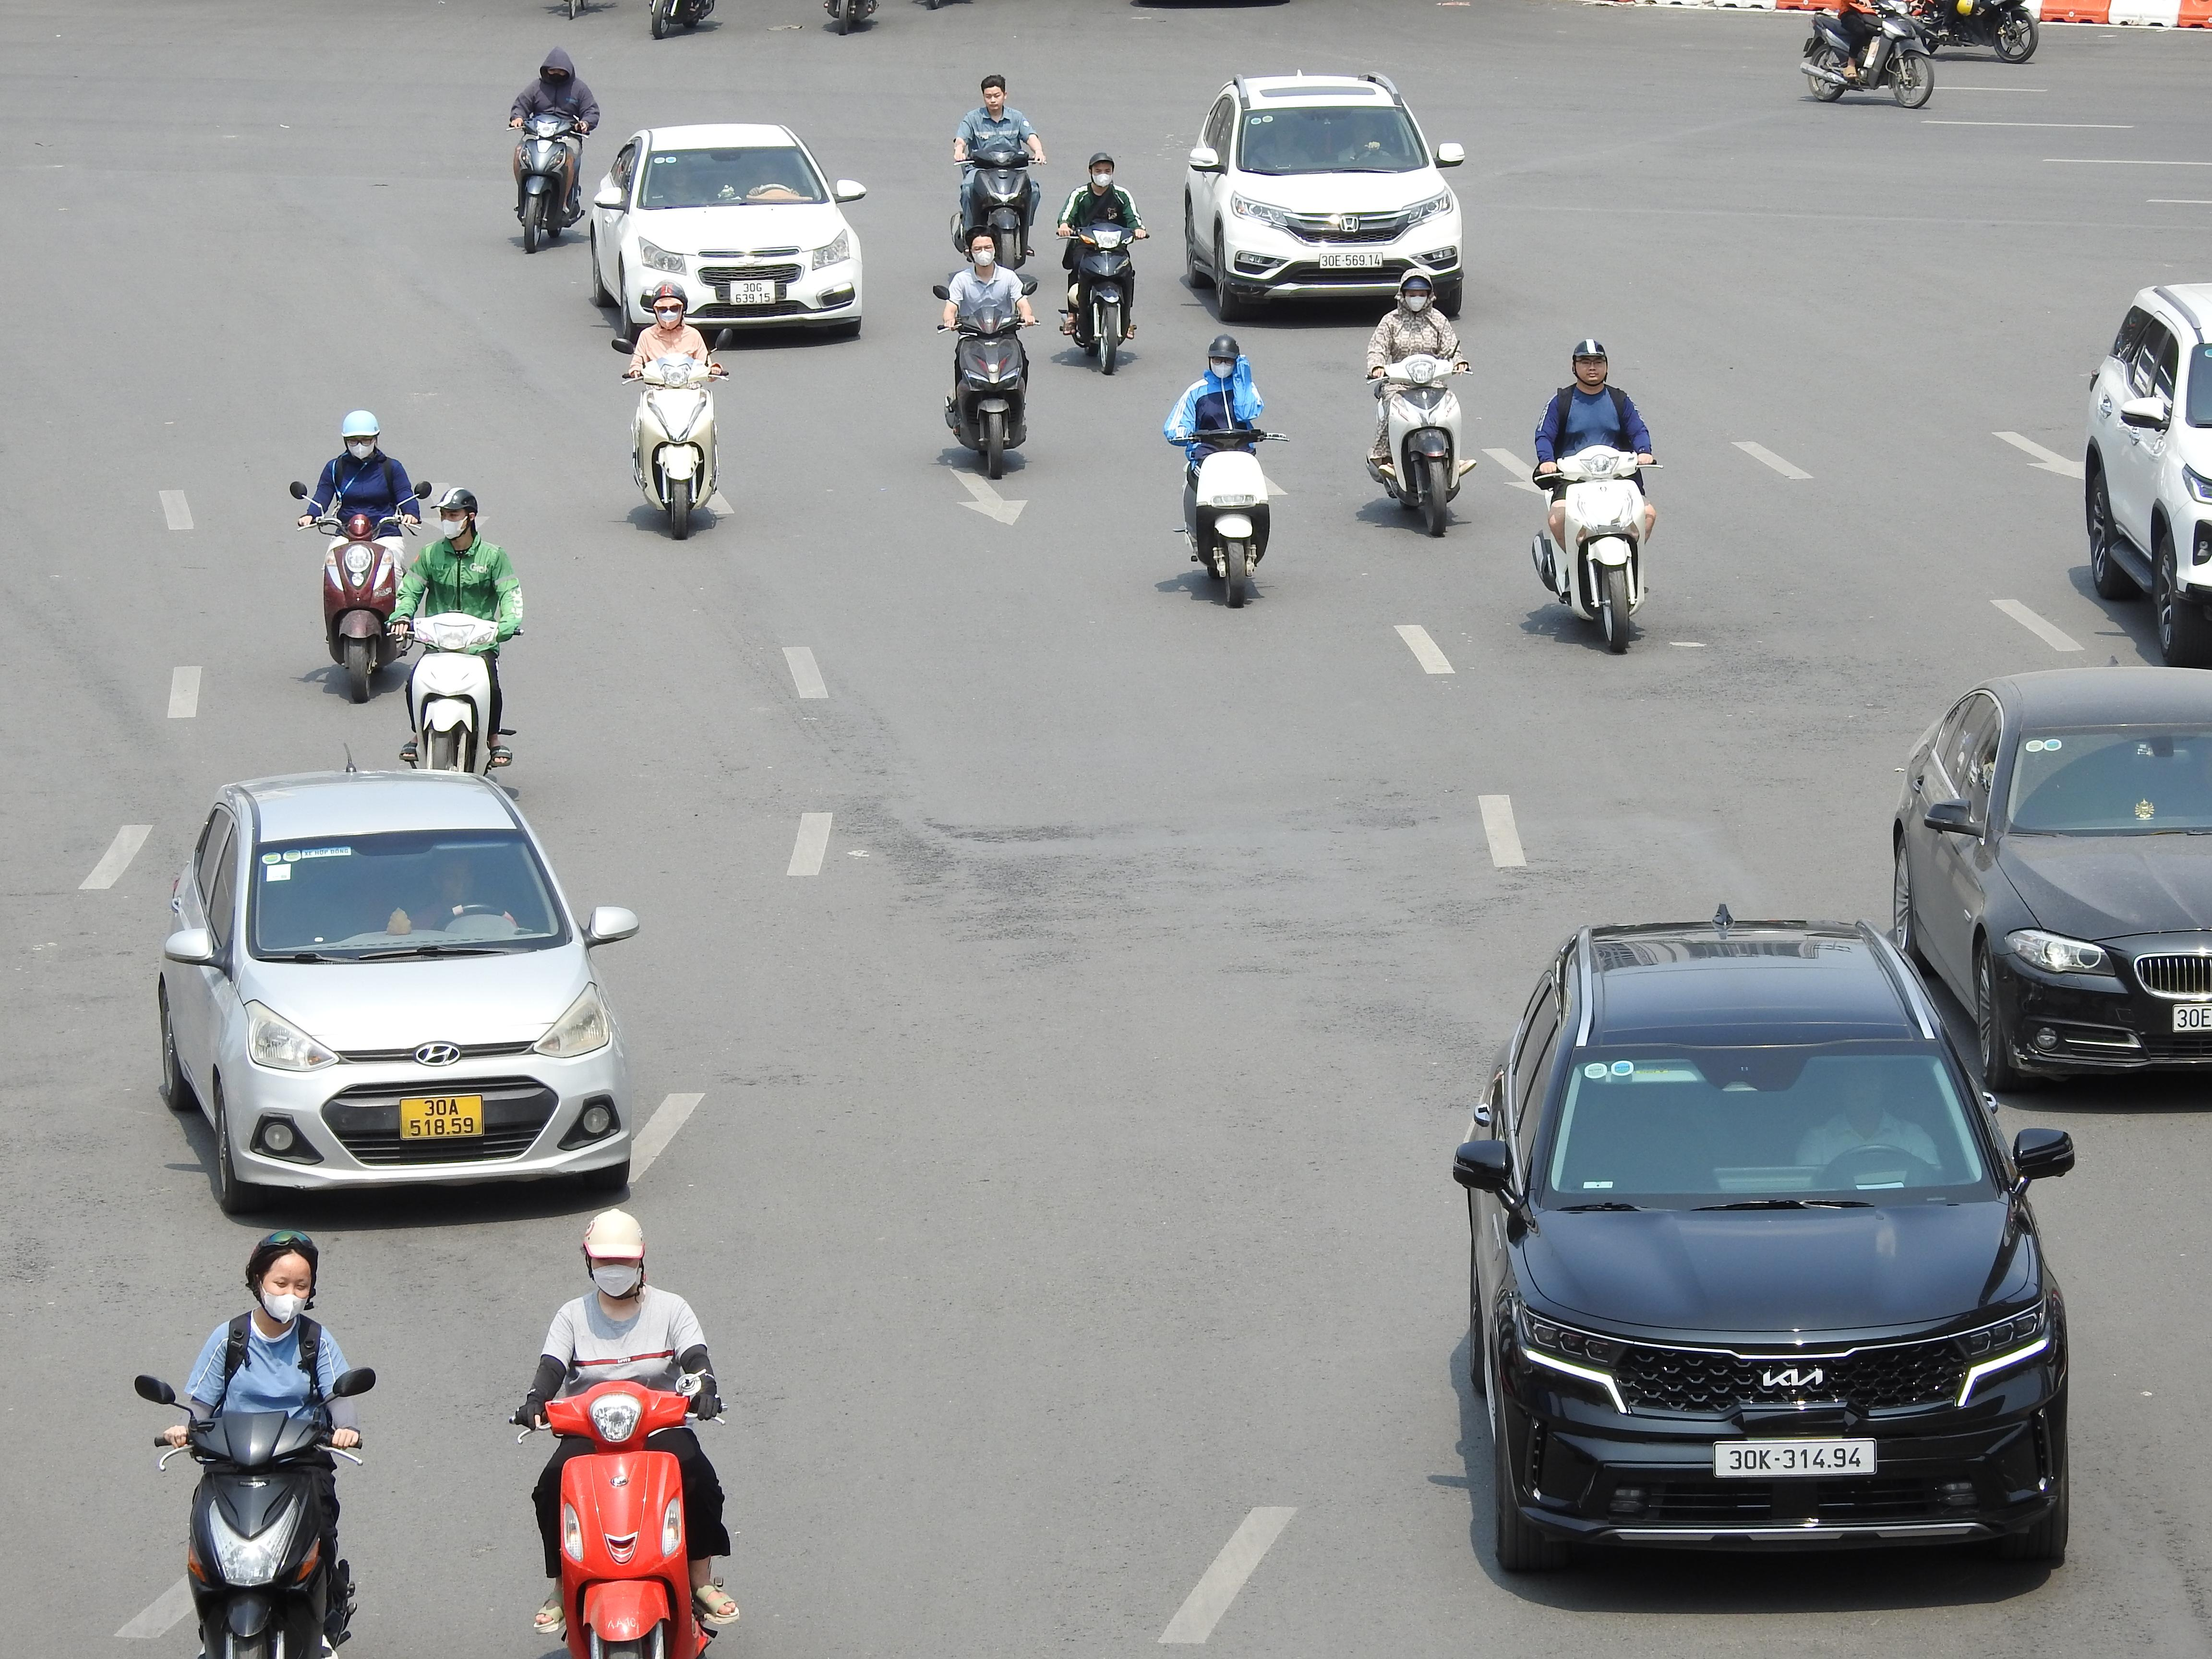BSD: (1712, 1438, 1876, 1478), (2174, 1000, 2212, 1030), (1318, 251, 1381, 268)
BSV: (399, 1094, 484, 1140), (730, 281, 777, 305)
car: (1446, 911, 2080, 1575), (153, 765, 641, 1215), (1888, 662, 2212, 1089), (1181, 71, 1467, 322), (587, 122, 866, 345), (2080, 279, 2212, 653)
motorbike: (138, 1229, 376, 1659), (514, 1208, 737, 1659), (1531, 338, 1658, 657), (296, 408, 423, 704), (395, 486, 521, 777), (1169, 333, 1280, 610), (1366, 270, 1474, 538), (624, 281, 726, 538), (935, 228, 1036, 481), (1057, 152, 1146, 376), (951, 75, 1045, 275), (509, 47, 597, 253), (1907, 0, 2043, 63)
